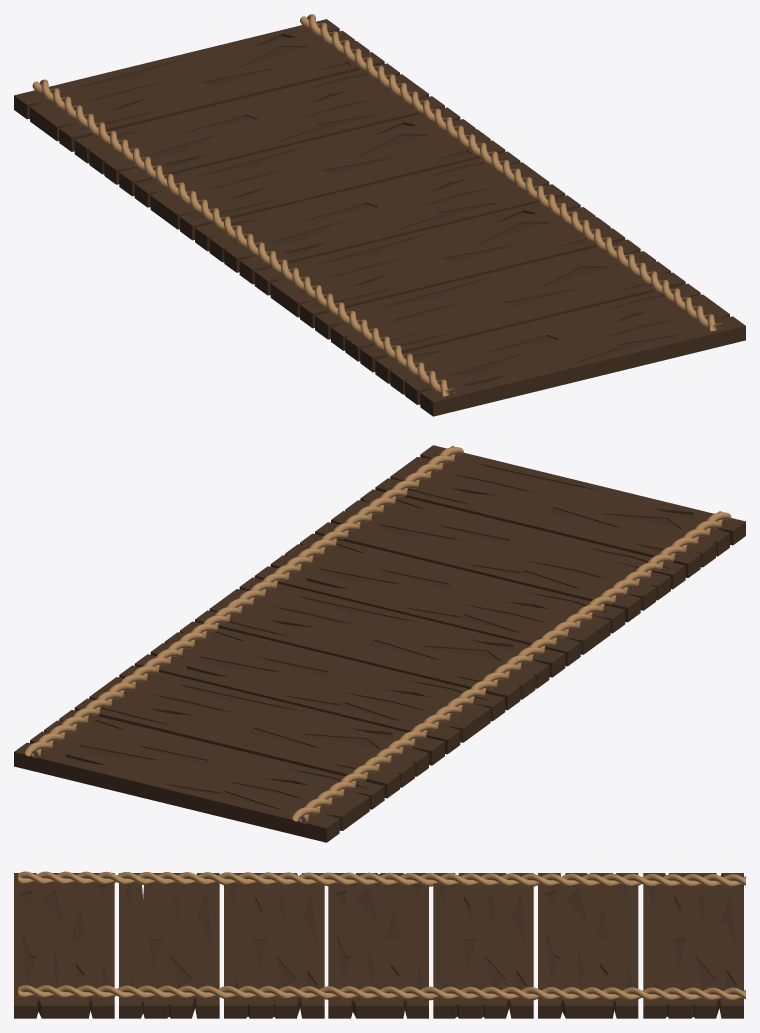
Rendered from Pont.fbx.
3 renders of one model, top to bottom at view 1: azimuth 30°, elevation 25°; view 2: azimuth 150°, elevation 25°; view 3: azimuth 270°, elevation 25°, orthographic. The views are drawn at different scales.
Parts seen in each view (by area): view 1: Cube.007, Cube.006, Cube.001, Cube.004, Cube.003, Cube.005, Cube.002, Cercle, Cercle.002; view 2: Cube.006, Cube.005, Cube.007, Cube.001, Cube.002, Cube.003, Cube.004, Cercle.002, Cercle; view 3: Cube.007, Cube.001, Cube.002, Cube.004, Cube.003, Cube.005, Cube.006, Cercle.002, Cercle.
Boxes of the visible parts, x1,y1,x2,y2 form: Cube.007: (375, 283, 745, 416); Cube.006: (14, 19, 384, 151); Cube.001: (315, 239, 685, 372); Cube.004: (254, 195, 625, 328); Cube.003: (134, 107, 505, 240); Cube.005: (74, 63, 444, 196); Cube.002: (195, 151, 565, 284); Cercle: (32, 79, 456, 396); Cercle.002: (300, 14, 723, 331); Cube.006: (14, 710, 384, 842); Cube.005: (74, 665, 444, 798); Cube.007: (375, 445, 745, 577); Cube.001: (315, 489, 685, 622); Cube.002: (195, 577, 565, 710); Cube.003: (134, 621, 505, 754); Cube.004: (254, 533, 625, 666); Cercle.002: (25, 446, 463, 758); Cercle: (292, 511, 731, 823); Cube.007: (14, 873, 114, 1018); Cube.001: (119, 873, 219, 1018); Cube.002: (328, 873, 428, 1018); Cube.004: (224, 873, 324, 1018); Cube.003: (433, 873, 533, 1018); Cube.005: (538, 873, 638, 1018); Cube.006: (643, 873, 743, 1018); Cercle.002: (18, 985, 745, 1000); Cercle: (18, 871, 745, 886).
Bounding box in the file's own units: 626 × 48.71 × 1456.
